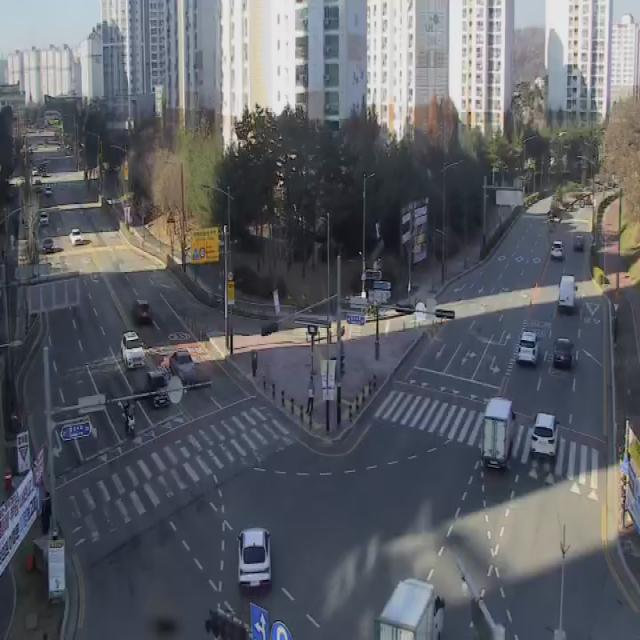Car: (237, 526, 270, 593), (530, 414, 560, 464), (121, 331, 146, 369), (170, 350, 198, 383), (147, 372, 171, 406), (517, 331, 539, 367), (558, 275, 578, 308), (553, 337, 574, 368), (136, 300, 151, 323), (550, 241, 564, 261), (69, 229, 83, 246), (42, 238, 54, 253), (40, 211, 50, 227)
Motorcycle: (120, 396, 143, 440)
Truck: (379, 579, 445, 640), (482, 399, 516, 471)
